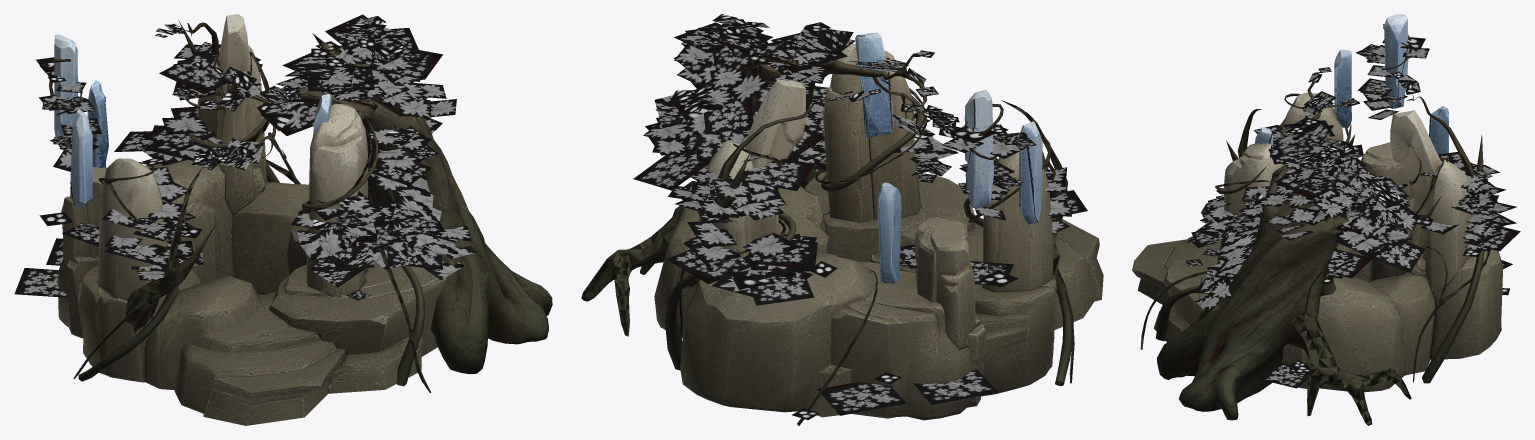
The model's file is Radiant_Ancient.fbx.
3 renders of one model, left to right at view 1: azimuth 30°, elevation 25°; view 2: azimuth 150°, elevation 25°; view 3: azimuth 270°, elevation 25°, orthographic. The views are drawn at different scales.
Visible parts, largest first — view 1: radiant_ancient; view 2: radiant_ancient; view 3: radiant_ancient.
Boxes of the visible parts, x1,y1,x2,y2 form: radiant_ancient: (14,14,552,425); radiant_ancient: (581,14,1103,425); radiant_ancient: (1132,14,1520,425).
Bounding box in the file's own units: 629 × 435 × 593.
